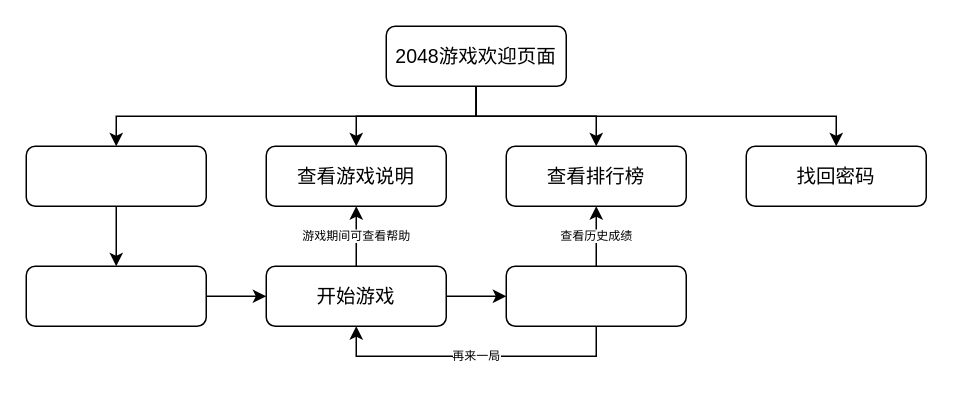
The diagram is 953 pixels wide and 395 high, and some of its shapes have lost their labels. The shapes that lost their labels are listed below. From the top down, each one's centre as x and y in pixels, then its label:
At (x=115, y=175): "登陆账号/创建账号".
At (x=115, y=295): "进入游戏主页面".
At (x=595, y=295): "游戏结束".
